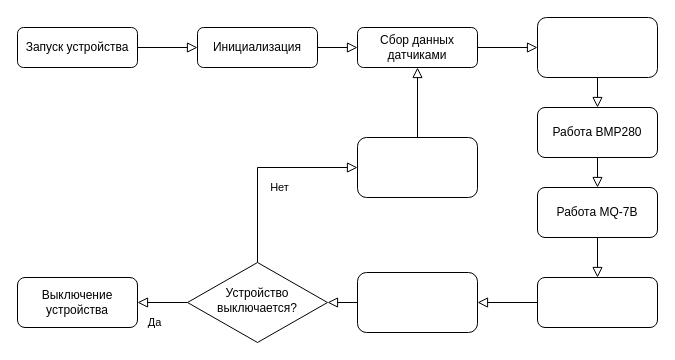
This 675x360 diagram has some shape labels left out. The centre of each missing label's shape, as x and y in pixels:
"Задержка (3 часа)" goes at point (417, 167).
"Обработка данных" goes at point (597, 302).
"Передача данных" goes at point (417, 302).
"Работа AM2320" goes at point (597, 47).
